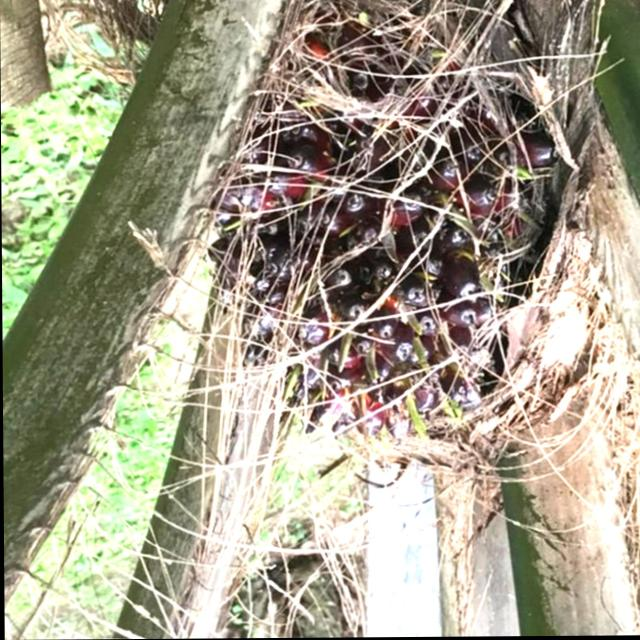ripe: (191, 21, 587, 493)
